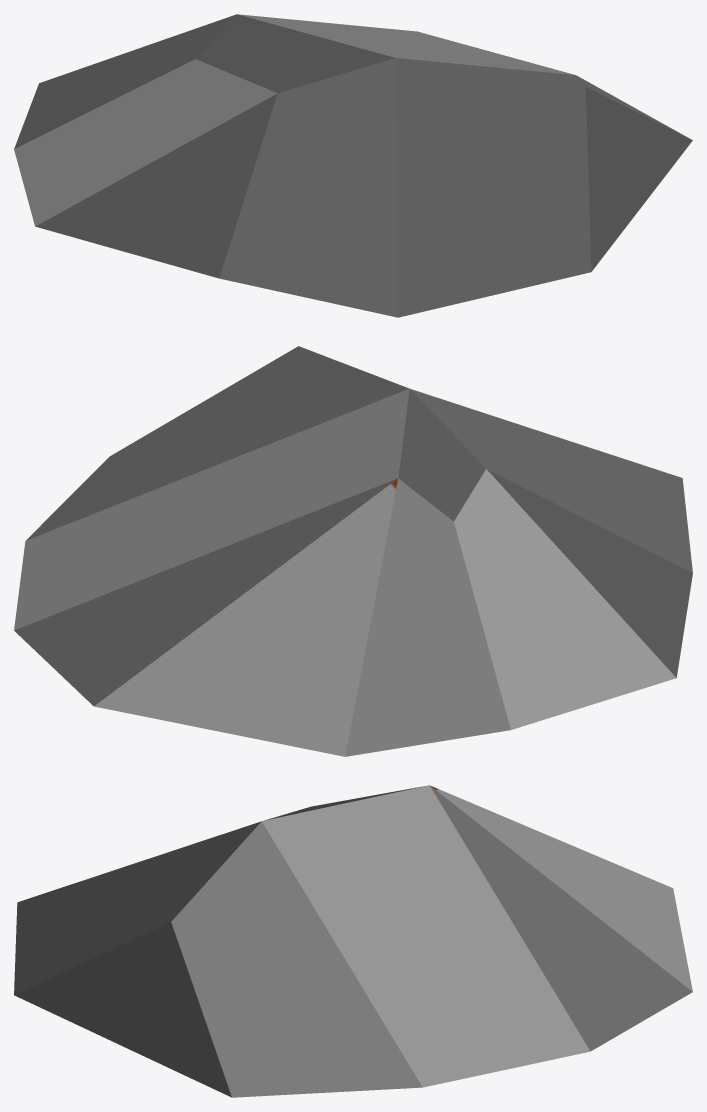
File: steen 1.fbx
The picture shows the model from 3 angles, top to bottom: view 1: azimuth 30°, elevation 25°; view 2: azimuth 150°, elevation 25°; view 3: azimuth 270°, elevation 25°; orthographic projection. The views are drawn at different scales.
Visible parts, largest first — view 1: pPyramid4; view 2: pPyramid4; view 3: pPyramid4.
Boxes of the visible parts, left/top/right/bottom form: pPyramid4: left=14, top=14, right=692, bottom=317; pPyramid4: left=14, top=346, right=692, bottom=756; pPyramid4: left=14, top=785, right=692, bottom=1097.
Size of the model in its own units: 11.34 by 2.62 by 11.54.
1 material, 1 textured.
